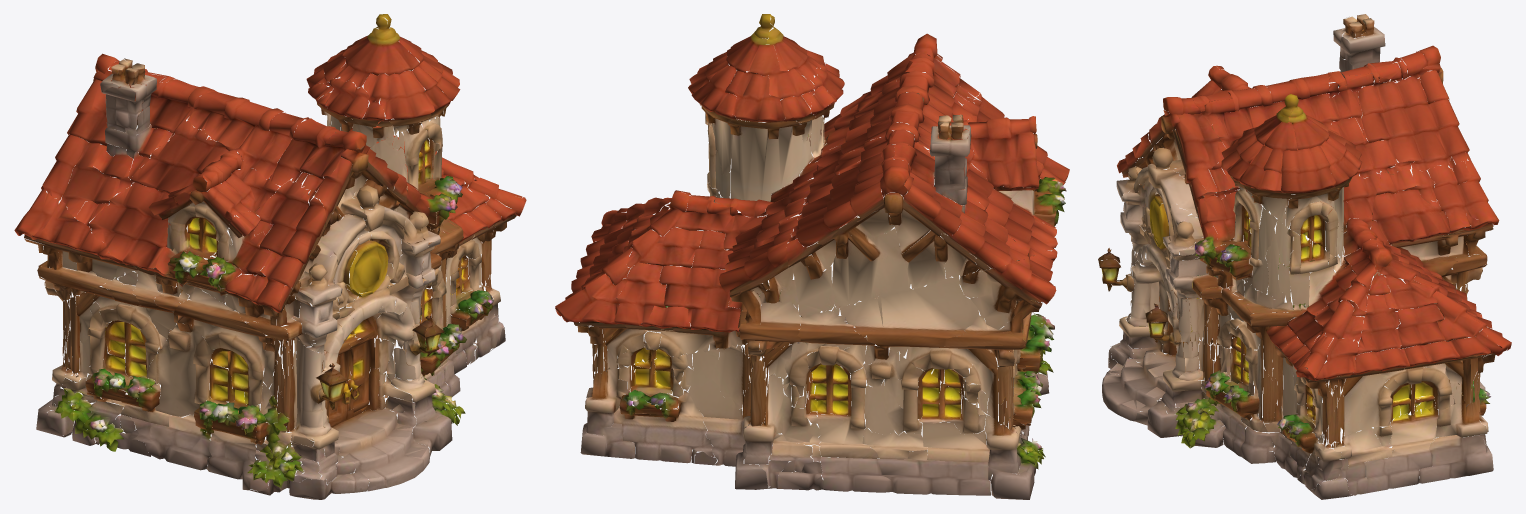
The model's file is bank-v2.glb.
3 views of the same model, side by side, from view 1: azimuth 30°, elevation 25°; view 2: azimuth 150°, elevation 25°; view 3: azimuth 270°, elevation 25° (orthographic). The views are drawn at different scales.
Parts seen in each view (by area): view 1: tripo_node_6c594a4f-b23c-4b77-818e-eb014e167e7b; view 2: tripo_node_6c594a4f-b23c-4b77-818e-eb014e167e7b; view 3: tripo_node_6c594a4f-b23c-4b77-818e-eb014e167e7b.
Part boxes in pixels (x1,y1,x2,y2): tripo_node_6c594a4f-b23c-4b77-818e-eb014e167e7b: (14, 14, 526, 499); tripo_node_6c594a4f-b23c-4b77-818e-eb014e167e7b: (555, 14, 1069, 499); tripo_node_6c594a4f-b23c-4b77-818e-eb014e167e7b: (1098, 14, 1511, 499).
Bounding box in the file's own units: 6.92 × 5.19 × 5.64.
Materials: 1 (1 with a texture image).
